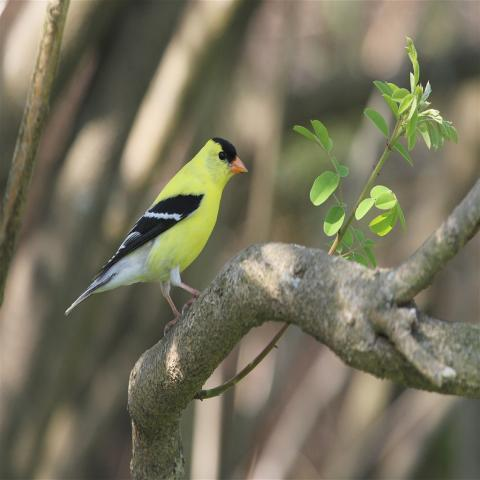bird: (63, 133, 249, 338)
